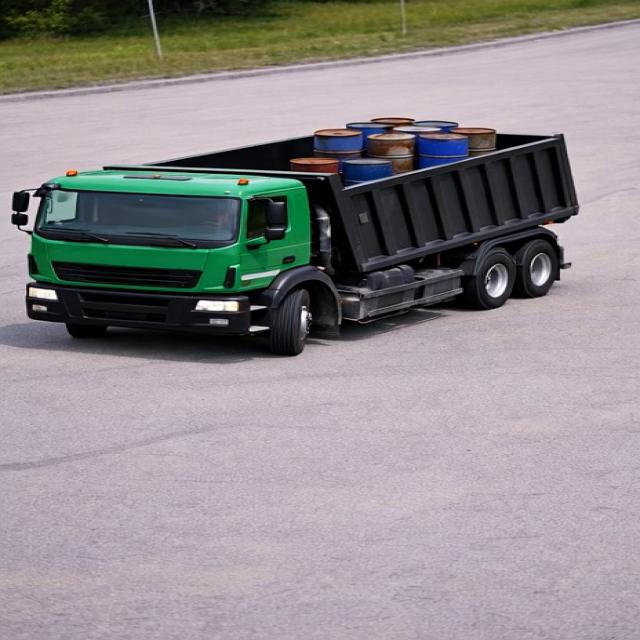Box: (106, 112, 596, 196)
Truck: (4, 75, 638, 348)
